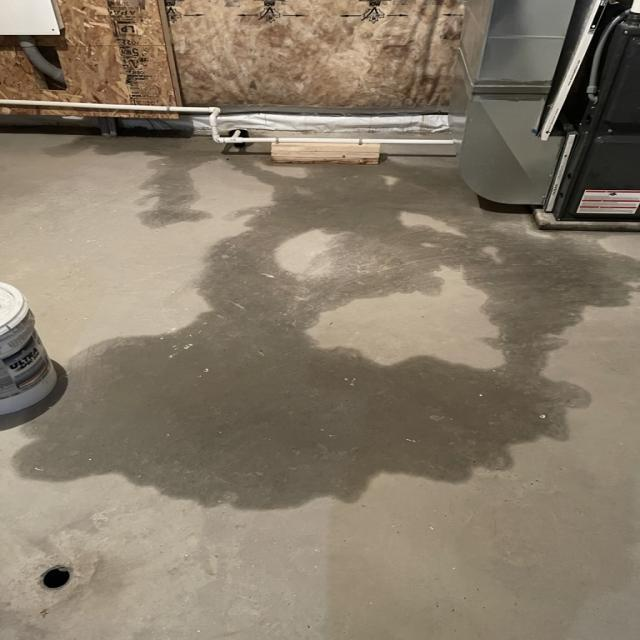water accumulation: (10, 127, 640, 511)
